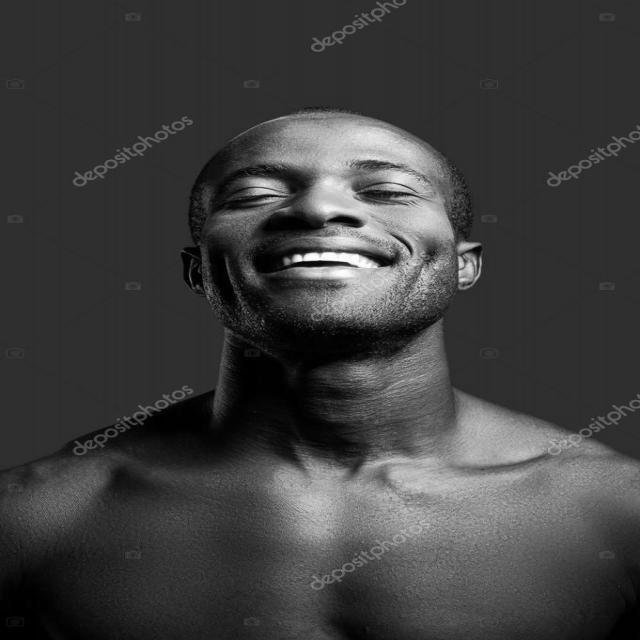real: (182, 110, 485, 340), (208, 154, 444, 218)
